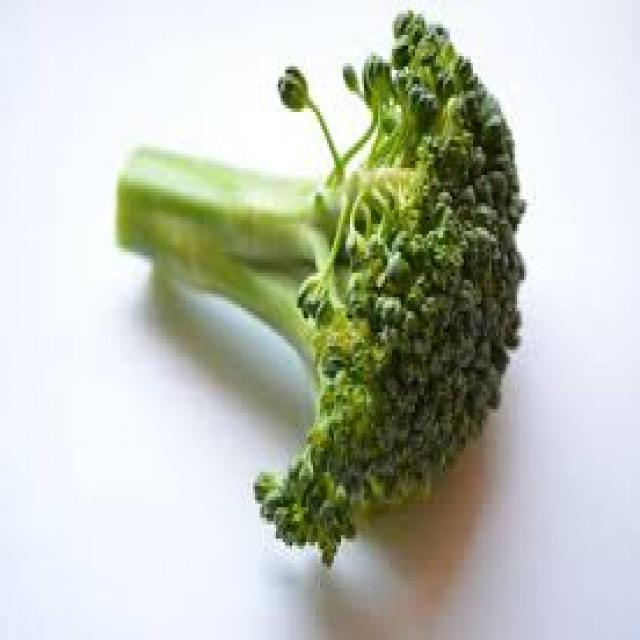organic waste: (111, 11, 522, 563)
